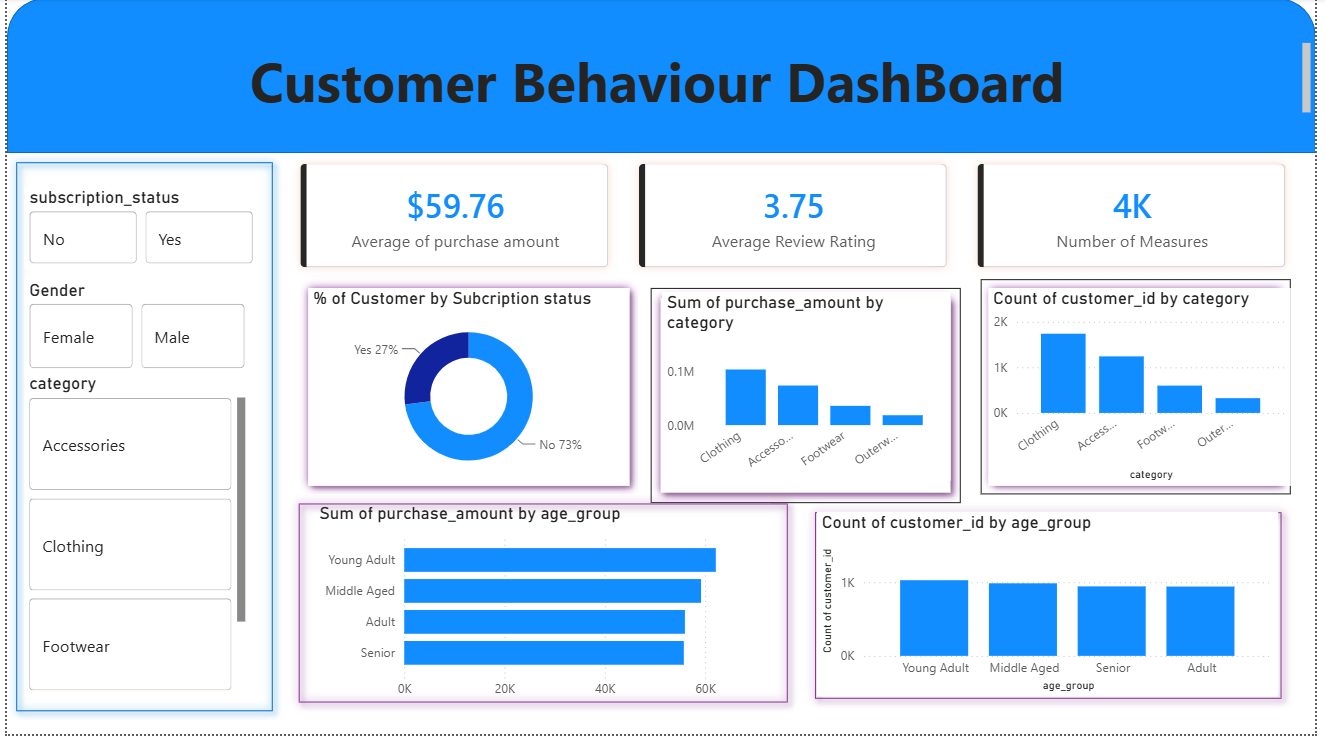

Layout of this report page (visuals, bound fields, positions):
{"tool":"powerbi","page":{"name":"Page 1","canvas":[1280,720],"ordinal":0},"visuals":[{"type":"cardVisual","fields":{"Data":["portfolioproject customer.Average of purchase amount","portfolioproject customer.Average Review Rating","portfolioproject customer.Number of Measures"]},"box":[259.2,134.5,1021.1,157.7],"z":0},{"type":"shape","box":[0,0,1280.3,151.6],"z":1000},{"type":"textbox","box":[0,39.1,1280.3,79.5],"z":2000},{"type":"shape","box":[286.1,275.1,331.4,210.3],"z":3000},{"type":"donutChart","title":"% of Customer by Subcription status","fields":{"Category":["portfolioproject customer.subscription_status"],"Y":["CountNonNull(portfolioproject customer.customer_id)"]},"box":[294.7,283.7,314.3,193.2],"z":4000},{"type":"shape","box":[629.8,283.7,303.3,210.3],"z":5000},{"type":"shape","box":[952.6,275.1,303.3,210.3],"z":6000},{"type":"clusteredColumnChart","fields":{"Category":["portfolioproject customer.category"],"Y":["Sum(portfolioproject customer.purchase_amount)"]},"box":[640.8,287.4,282.5,184.6],"z":7000},{"type":"clusteredColumnChart","fields":{"Category":["portfolioproject customer.category"],"Y":["CountNonNull(portfolioproject customer.customer_id)"]},"box":[959.9,283.7,295.9,193.2],"z":8000},{"type":"shape","box":[0,151.6,269,555.2],"z":8001},{"type":"advancedSlicerVisual","fields":{"Values":["portfolioproject customer.subscription_status"]},"box":[17.1,184.6,229.9,80.7],"z":8002},{"type":"advancedSlicerVisual","fields":{"Values":["portfolioproject customer.gender"]},"box":[17.1,275.1,221.3,92.9],"z":8003},{"type":"advancedSlicerVisual","fields":{"Values":["portfolioproject customer.category"]},"box":[17.1,366.8,221.3,316.7],"z":8004},{"type":"clusteredBarChart","fields":{"Category":["portfolioproject customer.age_group"],"Y":["Sum(portfolioproject customer.purchase_amount)"]},"box":[300.8,494,446.3,200.5],"z":8005},{"type":"shape","box":[276.4,485.5,496.5,212.8],"z":8006},{"type":"shape","box":[781.4,494,474.5,200.5],"z":8007},{"type":"clusteredColumnChart","fields":{"Y":["CountNonNull(portfolioproject customer.customer_id)"],"Category":["portfolioproject customer.age_group"]},"box":[792.4,502.6,451.2,181],"z":8008}]}

Visuals, with their boxes in screenshot pixels (x1, y1, x2, y2), scaled from the page's 1280x720 canvas onto the 1325x736 screenshot:
cardVisual - portfolioproject customer.Average of purchase amount x portfolioproject customer.Average Review Rating: <bbox>268, 137, 1324, 299</bbox>
shape: <bbox>0, 0, 1324, 155</bbox>
textbox: <bbox>0, 40, 1324, 121</bbox>
shape: <bbox>296, 281, 639, 496</bbox>
"% of Customer by Subcription status" donutChart: <bbox>305, 290, 630, 487</bbox>
shape: <bbox>652, 290, 966, 505</bbox>
shape: <bbox>986, 281, 1300, 496</bbox>
clusteredColumnChart - portfolioproject customer.category x Sum(portfolioproject customer.purchase_amount): <bbox>663, 294, 956, 482</bbox>
clusteredColumnChart - portfolioproject customer.category x CountNonNull(portfolioproject customer.customer_id): <bbox>994, 290, 1300, 487</bbox>
shape: <bbox>0, 155, 278, 723</bbox>
advancedSlicerVisual - portfolioproject customer.subscription_status: <bbox>18, 189, 256, 271</bbox>
advancedSlicerVisual - portfolioproject customer.gender: <bbox>18, 281, 247, 376</bbox>
advancedSlicerVisual - portfolioproject customer.category: <bbox>18, 375, 247, 699</bbox>
clusteredBarChart - portfolioproject customer.age_group x Sum(portfolioproject customer.purchase_amount): <bbox>311, 505, 773, 710</bbox>
shape: <bbox>286, 496, 800, 714</bbox>
shape: <bbox>809, 505, 1300, 710</bbox>
clusteredColumnChart - CountNonNull(portfolioproject customer.customer_id) x portfolioproject customer.age_group: <bbox>820, 514, 1287, 699</bbox>
